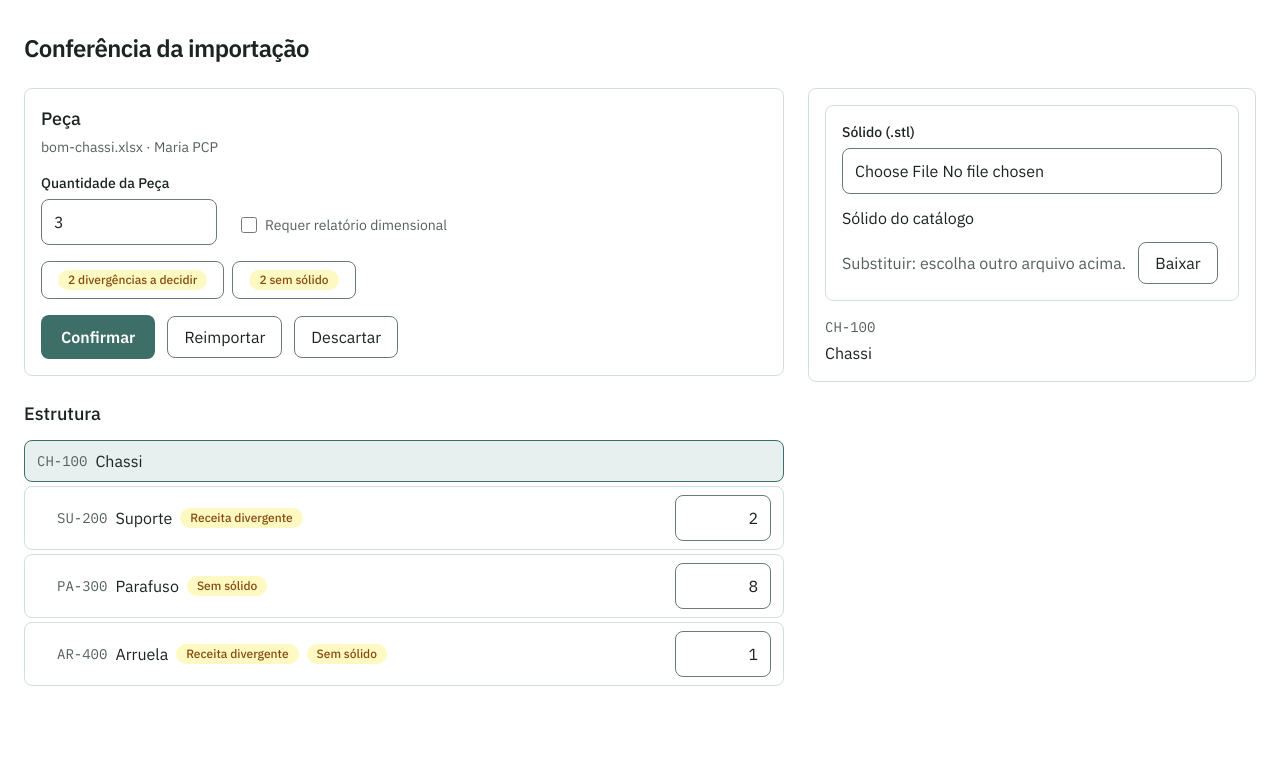
Test: ConferenciaDeImportacaoPage › Confirmar_com_ImportacaoComBloqueios_rele_o_estado
Click the button "Confirmar". click: (98, 337)
box: [41, 315, 155, 359]
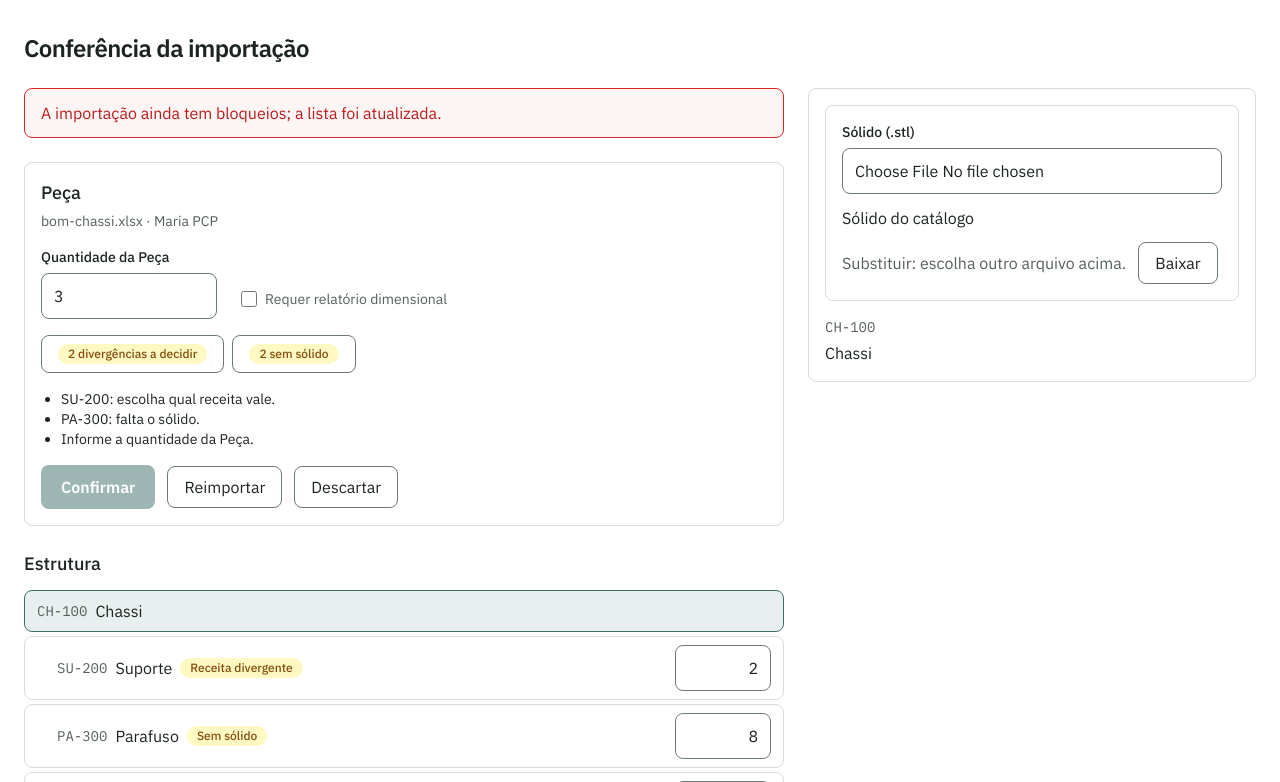
Expected: the list named "O que falta para confirmar" is shown, [61, 390, 275, 448]
Expected: the message shows "bloqueios", [41, 103, 442, 123]
